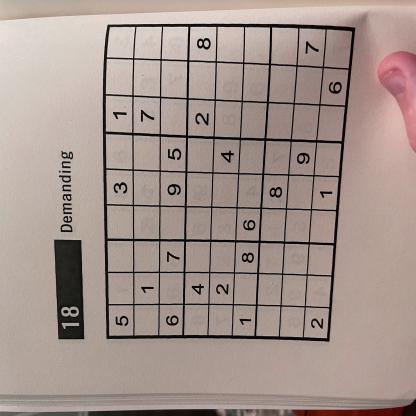sudoku: (97, 20, 360, 346)
